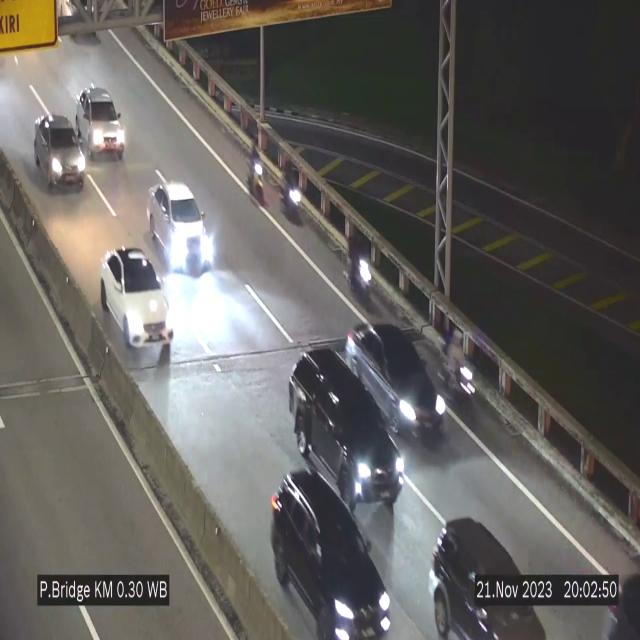Car: (283, 337, 413, 522), (269, 466, 394, 640), (421, 500, 558, 640), (344, 320, 445, 442), (97, 235, 183, 362), (148, 182, 216, 272), (74, 86, 126, 160), (34, 114, 85, 189)
Motorcycle: (442, 326, 474, 411), (346, 228, 376, 314), (244, 140, 268, 209), (281, 161, 304, 230)
